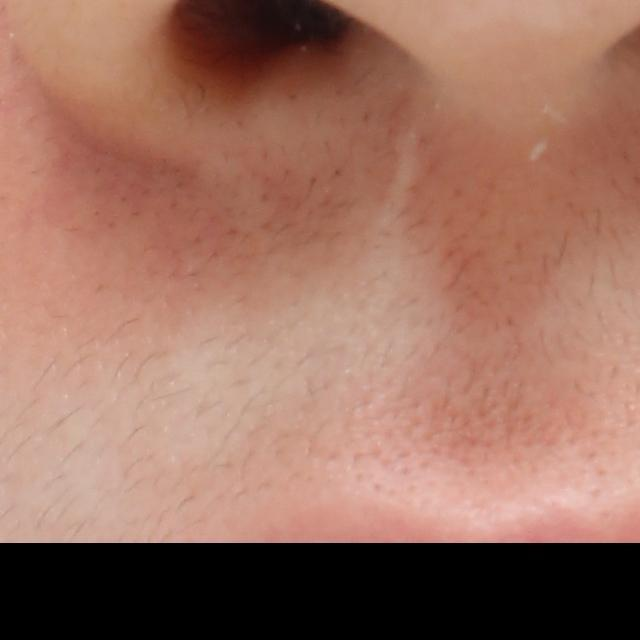other: (368, 122, 429, 250)
